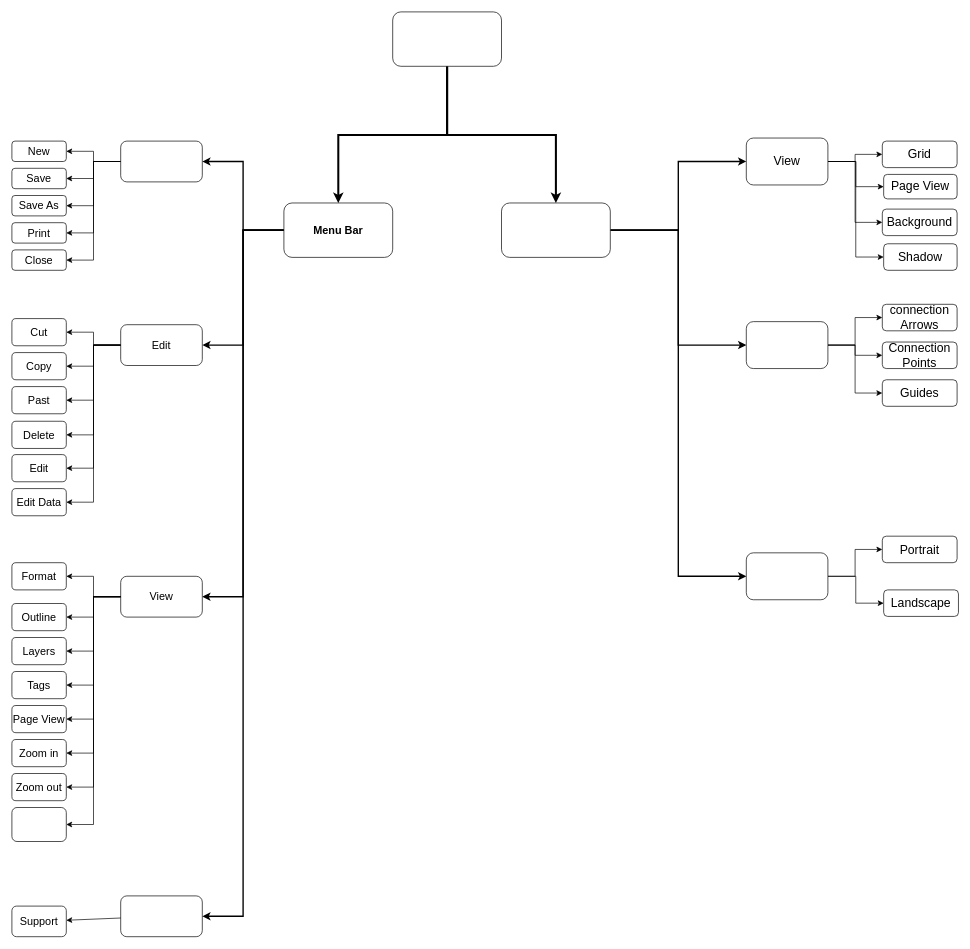
Image size: 970x949. Some labels were removed from this diagram. Each missing label, with the centre of its shape:
Diagram: pixel 555 229
File: pixel 161 161
Full Screen: pixel 38 824
Help: pixel 161 916
Main Window: pixel 447 38
Options: pixel 787 345
Paper Size: pixel 787 576
